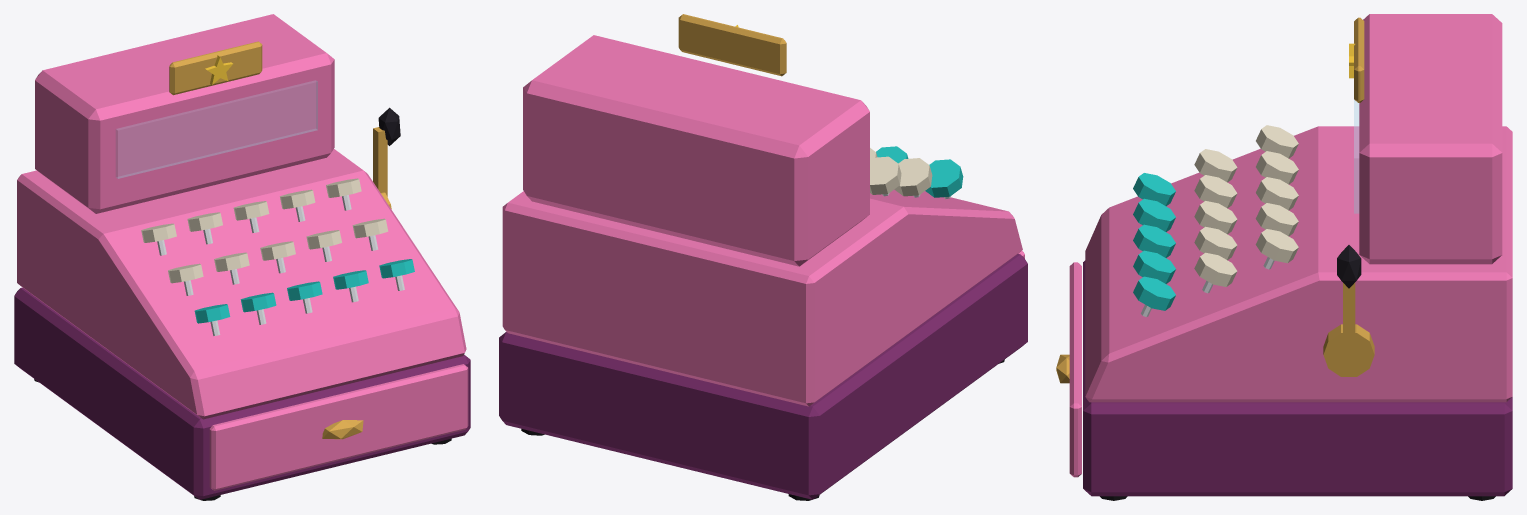
3 views of the same model, side by side, from view 1: azimuth 30°, elevation 25°; view 2: azimuth 150°, elevation 25°; view 3: azimuth 270°, elevation 25° (orthographic). The views are drawn at different scales.
Visible parts, largest first — view 1: body, flag_tower, base, drawer_front, flag_window, crest, crank_arm, drawer_pull, crank_handle, key_0_0_cap, key_0_2_cap, key_1_1_cap (+12 smaller); view 2: body, flag_tower, base, crest, key_1_0_cap, key_0_0_cap, key_2_0_cap; view 3: body, base, flag_tower, drawer_front, crank_hub, key_0_4_cap, key_1_4_cap, key_2_4_cap, key_1_0_cap, key_2_1_cap, key_2_2_cap, key_1_1_cap (+12 smaller).
Part boxes in pixels (x1=…): body: x1=17, y1=149, x2=466, y2=419; flag_tower: x1=35, y1=14, x2=334, y2=213; base: x1=14, y1=287, x2=470, y2=499; drawer_front: x1=209, y1=364, x2=468, y2=490; flag_window: x1=116, y1=80, x2=317, y2=178; crest: x1=169, y1=41, x2=262, y2=95; crank_arm: x1=373, y1=127, x2=387, y2=196; drawer_pull: x1=322, y1=420, x2=363, y2=439; crank_handle: x1=378, y1=107, x2=400, y2=145; key_0_0_cap: x1=194, y1=304, x2=230, y2=323; key_0_2_cap: x1=287, y1=281, x2=322, y2=300; key_1_1_cap: x1=214, y1=252, x2=249, y2=271; body: x1=502, y1=189, x2=1022, y2=406; flag_tower: x1=523, y1=35, x2=869, y2=266; base: x1=499, y1=254, x2=1027, y2=499; crest: x1=678, y1=14, x2=786, y2=76; key_1_0_cap: x1=894, y1=158, x2=932, y2=196; key_0_0_cap: x1=925, y1=159, x2=963, y2=197; key_2_0_cap: x1=870, y1=156, x2=901, y2=194; body: x1=1085, y1=126, x2=1512, y2=402; base: x1=1083, y1=260, x2=1512, y2=496; flag_tower: x1=1359, y1=14, x2=1502, y2=264; drawer_front: x1=1069, y1=262, x2=1081, y2=477; crank_hub: x1=1323, y1=324, x2=1374, y2=376; key_0_4_cap: x1=1133, y1=276, x2=1175, y2=310; key_1_4_cap: x1=1194, y1=252, x2=1237, y2=286; key_2_4_cap: x1=1255, y1=229, x2=1298, y2=263; key_1_0_cap: x1=1194, y1=149, x2=1237, y2=182; key_2_1_cap: x1=1256, y1=151, x2=1298, y2=184; key_2_2_cap: x1=1256, y1=177, x2=1298, y2=210; key_1_1_cap: x1=1194, y1=175, x2=1237, y2=208.
Size of the model in its own units: 0.4125 by 0.418 by 0.4462.
